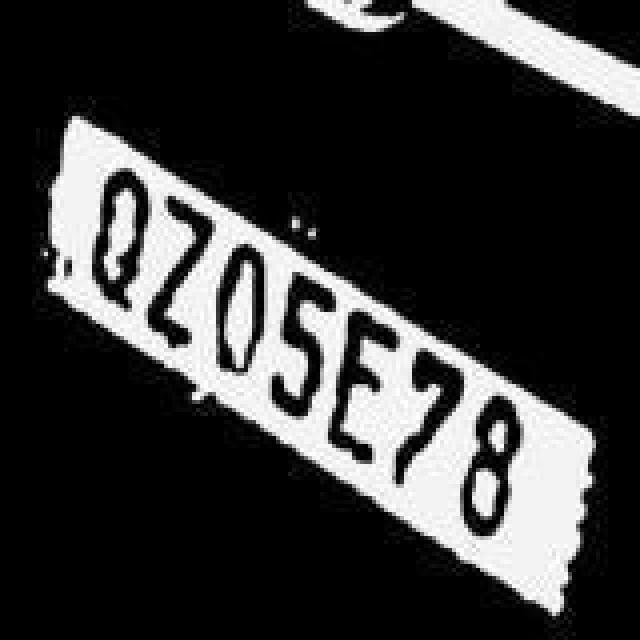5: (272, 272, 344, 448)
7: (392, 338, 464, 494)
8: (462, 388, 522, 540)
E: (330, 320, 406, 480)
O: (214, 242, 274, 422)
Q: (94, 154, 146, 310)
Z: (146, 202, 222, 382)
